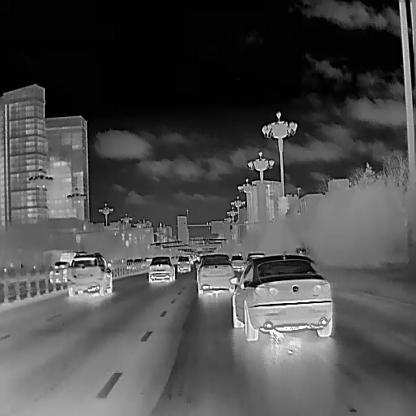car: (232, 254, 332, 340), (66, 252, 112, 297), (196, 253, 234, 293), (147, 254, 175, 286), (50, 262, 68, 284), (176, 255, 190, 273), (230, 254, 243, 270), (133, 257, 141, 269), (126, 258, 134, 268)
